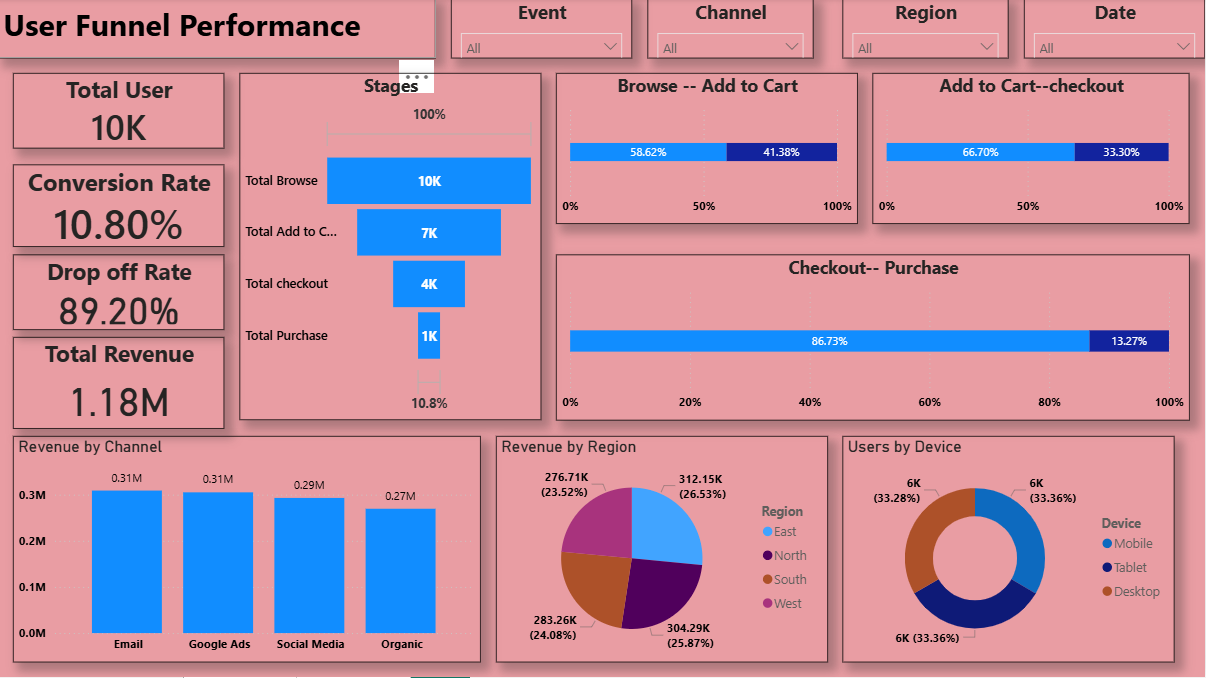

What the dashboard file says about the page in this screenshot:
{"tool":"powerbi","page":{"name":"Page 1","canvas":[1280,720],"ordinal":0},"visuals":[{"type":"textbox","box":[0,0,464,64],"z":0},{"type":"slicer","title":"Date","fields":{"Values":["funnel_analysis_data.Date.Variation.Date Hierarchy.Day"]},"box":[1088,0,192,64],"z":1000},{"type":"slicer","title":"Region","fields":{"Values":["funnel_analysis_data.Region"]},"box":[896,0,176,64],"z":2000},{"type":"slicer","title":"Channel","fields":{"Values":["funnel_analysis_data.Channel"]},"box":[688,0,176,64],"z":3000},{"type":"slicer","title":"Event","fields":{"Values":["funnel_analysis_data.Device"]},"box":[480,0,192,64],"z":4000},{"type":"card","title":"Total User","fields":{"Values":["funnel_analysis_data.Total Count"]},"box":[16,80,224,80],"z":5000},{"type":"card","title":"Conversion Rate","fields":{"Values":["funnel_analysis_data.Conversion Rate"]},"box":[15.9,176.6,224.3,87.5],"z":6000},{"type":"card","title":"Drop off Rate","fields":{"Values":["funnel_analysis_data.Drop off Rate"]},"box":[16,272,224,80],"z":7000},{"type":"card","title":"Total Revenue","fields":{"Values":["Sum(funnel_analysis_data.Revenue)"]},"box":[15.9,359.5,224.3,97],"z":8000},{"type":"funnel","title":"Stages","fields":{"Y":["funnel_analysis_data.Total Browse","funnel_analysis_data.Total Add to cart","funnel_analysis_data.Total checkout","funnel_analysis_data.Total Purchase"]},"box":[256,80,320,368],"z":9000},{"type":"hundredPercentStackedBarChart","title":" Browse -- Add to Cart","fields":{"Y":["funnel_analysis_data.Total Browse","funnel_analysis_data.Total Add to Cart"]},"box":[592,80,320,160],"z":10000},{"type":"hundredPercentStackedBarChart","title":"Checkout-- Purchase ","fields":{"Y":["funnel_analysis_data.Total Add to Cart","funnel_analysis_data.Total Purchase"]},"box":[592,272,672,176],"z":11000},{"type":"hundredPercentStackedBarChart","title":" Add to Cart--checkout","fields":{"Y":["funnel_analysis_data.Total Add to Cart","funnel_analysis_data.Total checkout"]},"box":[928,80,336,160],"z":12000},{"type":"columnChart","title":" Revenue by Channel","fields":{"Category":["funnel_analysis_data.Channel"],"Y":["Sum(funnel_analysis_data.Revenue)"]},"box":[16,464,496,240],"z":13000},{"type":"pieChart","title":" Revenue by Region","fields":{"Category":["funnel_analysis_data.Region"],"Y":["Sum(funnel_analysis_data.Revenue)"]},"box":[528,464,352,240],"z":14000},{"type":"donutChart","title":"Users  by Device","fields":{"Category":["funnel_analysis_data.Device"],"Y":["funnel_analysis_data.Total Count"]},"box":[896,464,352,240],"z":15000}]}

Visuals, with their boxes in screenshot pixels (x1, y1, x2, y2), scaled from the page's 1280x720 canvas onto the 1206x678 screenshot:
textbox: box(0, 0, 437, 60)
"Date" slicer: box(1025, 0, 1205, 60)
"Region" slicer: box(844, 0, 1010, 60)
"Channel" slicer: box(648, 0, 814, 60)
"Event" slicer: box(452, 0, 633, 60)
"Total User" card: box(15, 75, 226, 151)
"Conversion Rate" card: box(15, 166, 226, 249)
"Drop off Rate" card: box(15, 256, 226, 331)
"Total Revenue" card: box(15, 339, 226, 430)
"Stages" funnel: box(241, 75, 543, 422)
" Browse -- Add to Cart" hundredPercentStackedBarChart: box(558, 75, 859, 226)
"Checkout-- Purchase " hundredPercentStackedBarChart: box(558, 256, 1191, 422)
" Add to Cart--checkout" hundredPercentStackedBarChart: box(874, 75, 1191, 226)
" Revenue by Channel" columnChart: box(15, 437, 482, 663)
" Revenue by Region" pieChart: box(497, 437, 829, 663)
"Users  by Device" donutChart: box(844, 437, 1176, 663)
